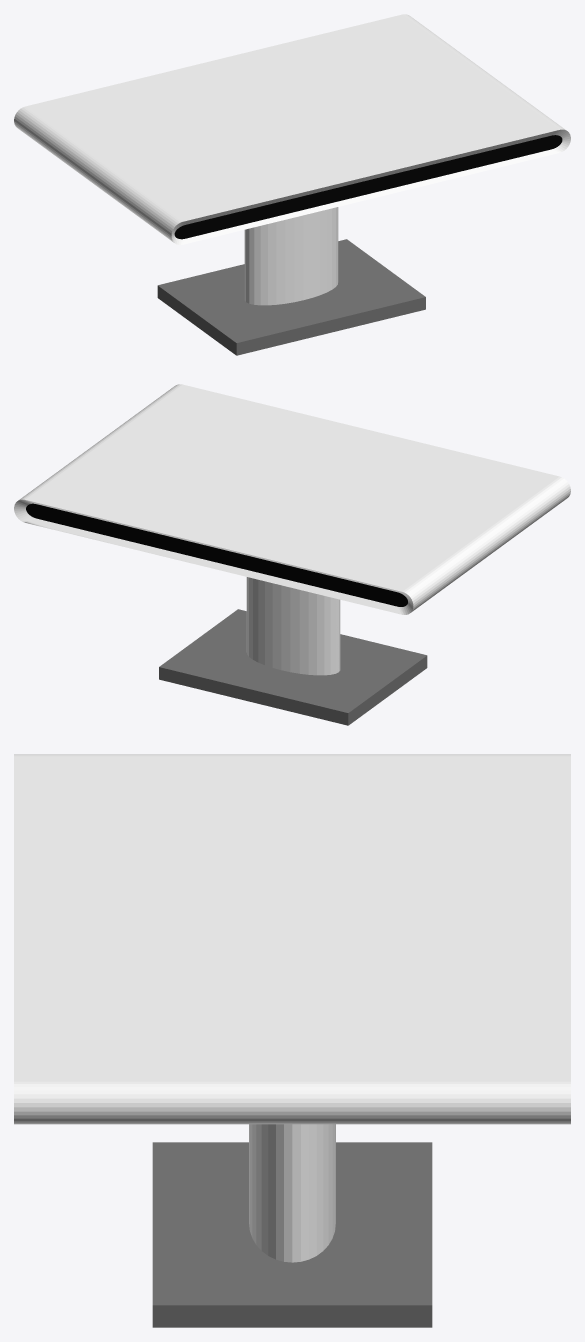
File: table01.obj
3 renders of one model, top to bottom at view 1: azimuth 30°, elevation 25°; view 2: azimuth 150°, elevation 25°; view 3: azimuth 270°, elevation 25°, orthographic. The views are drawn at different scales.
Visible parts, largest first — view 1: 立方体; view 2: 立方体; view 3: 立方体.
Boxes of the visible parts, <box> form: 立方体: <box>14,14,570,355</box>; 立方体: <box>14,384,570,725</box>; 立方体: <box>14,754,570,1327</box>.
Bounding box in the file's own units: 1.79 × 0.794 × 1.22.
1 material, 1 textured.
